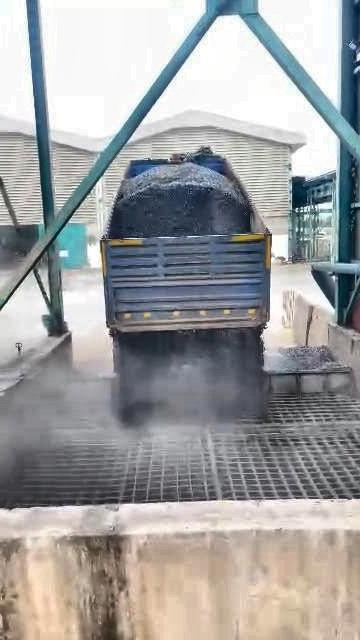gravel: (113, 329, 268, 424), (108, 162, 252, 237), (266, 345, 342, 372)
